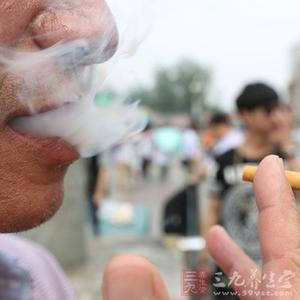cigarette: (238, 161, 300, 190)
